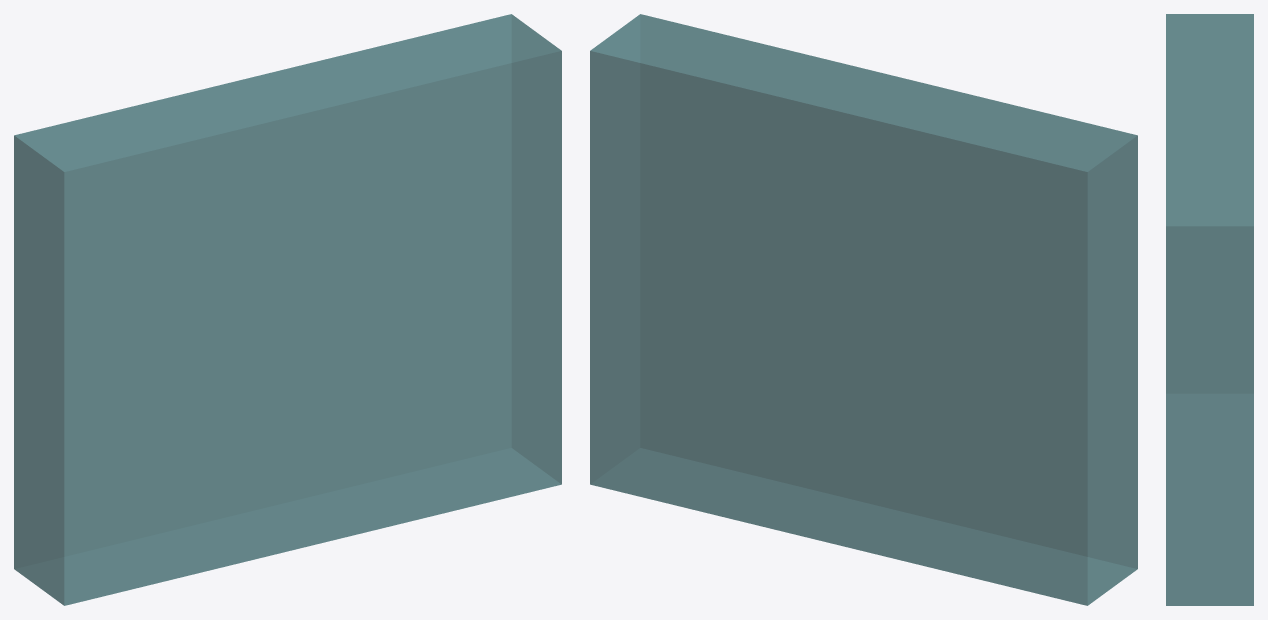
The picture shows the model from 3 angles, left to right: view 1: azimuth 30°, elevation 25°; view 2: azimuth 150°, elevation 25°; view 3: azimuth 270°, elevation 25°; orthographic projection. The views are drawn at different scales.
Visible parts, largest first — view 1: A-FF-9D8; view 2: A-FF-9D8; view 3: A-FF-9D8.
Boxes of the visible parts, <box> form: A-FF-9D8: <box>14,14,561,605</box>; A-FF-9D8: <box>590,14,1137,605</box>; A-FF-9D8: <box>1166,14,1253,605</box>.
Bounding box in the file's own units: 1.2 × 1 × 0.21.
